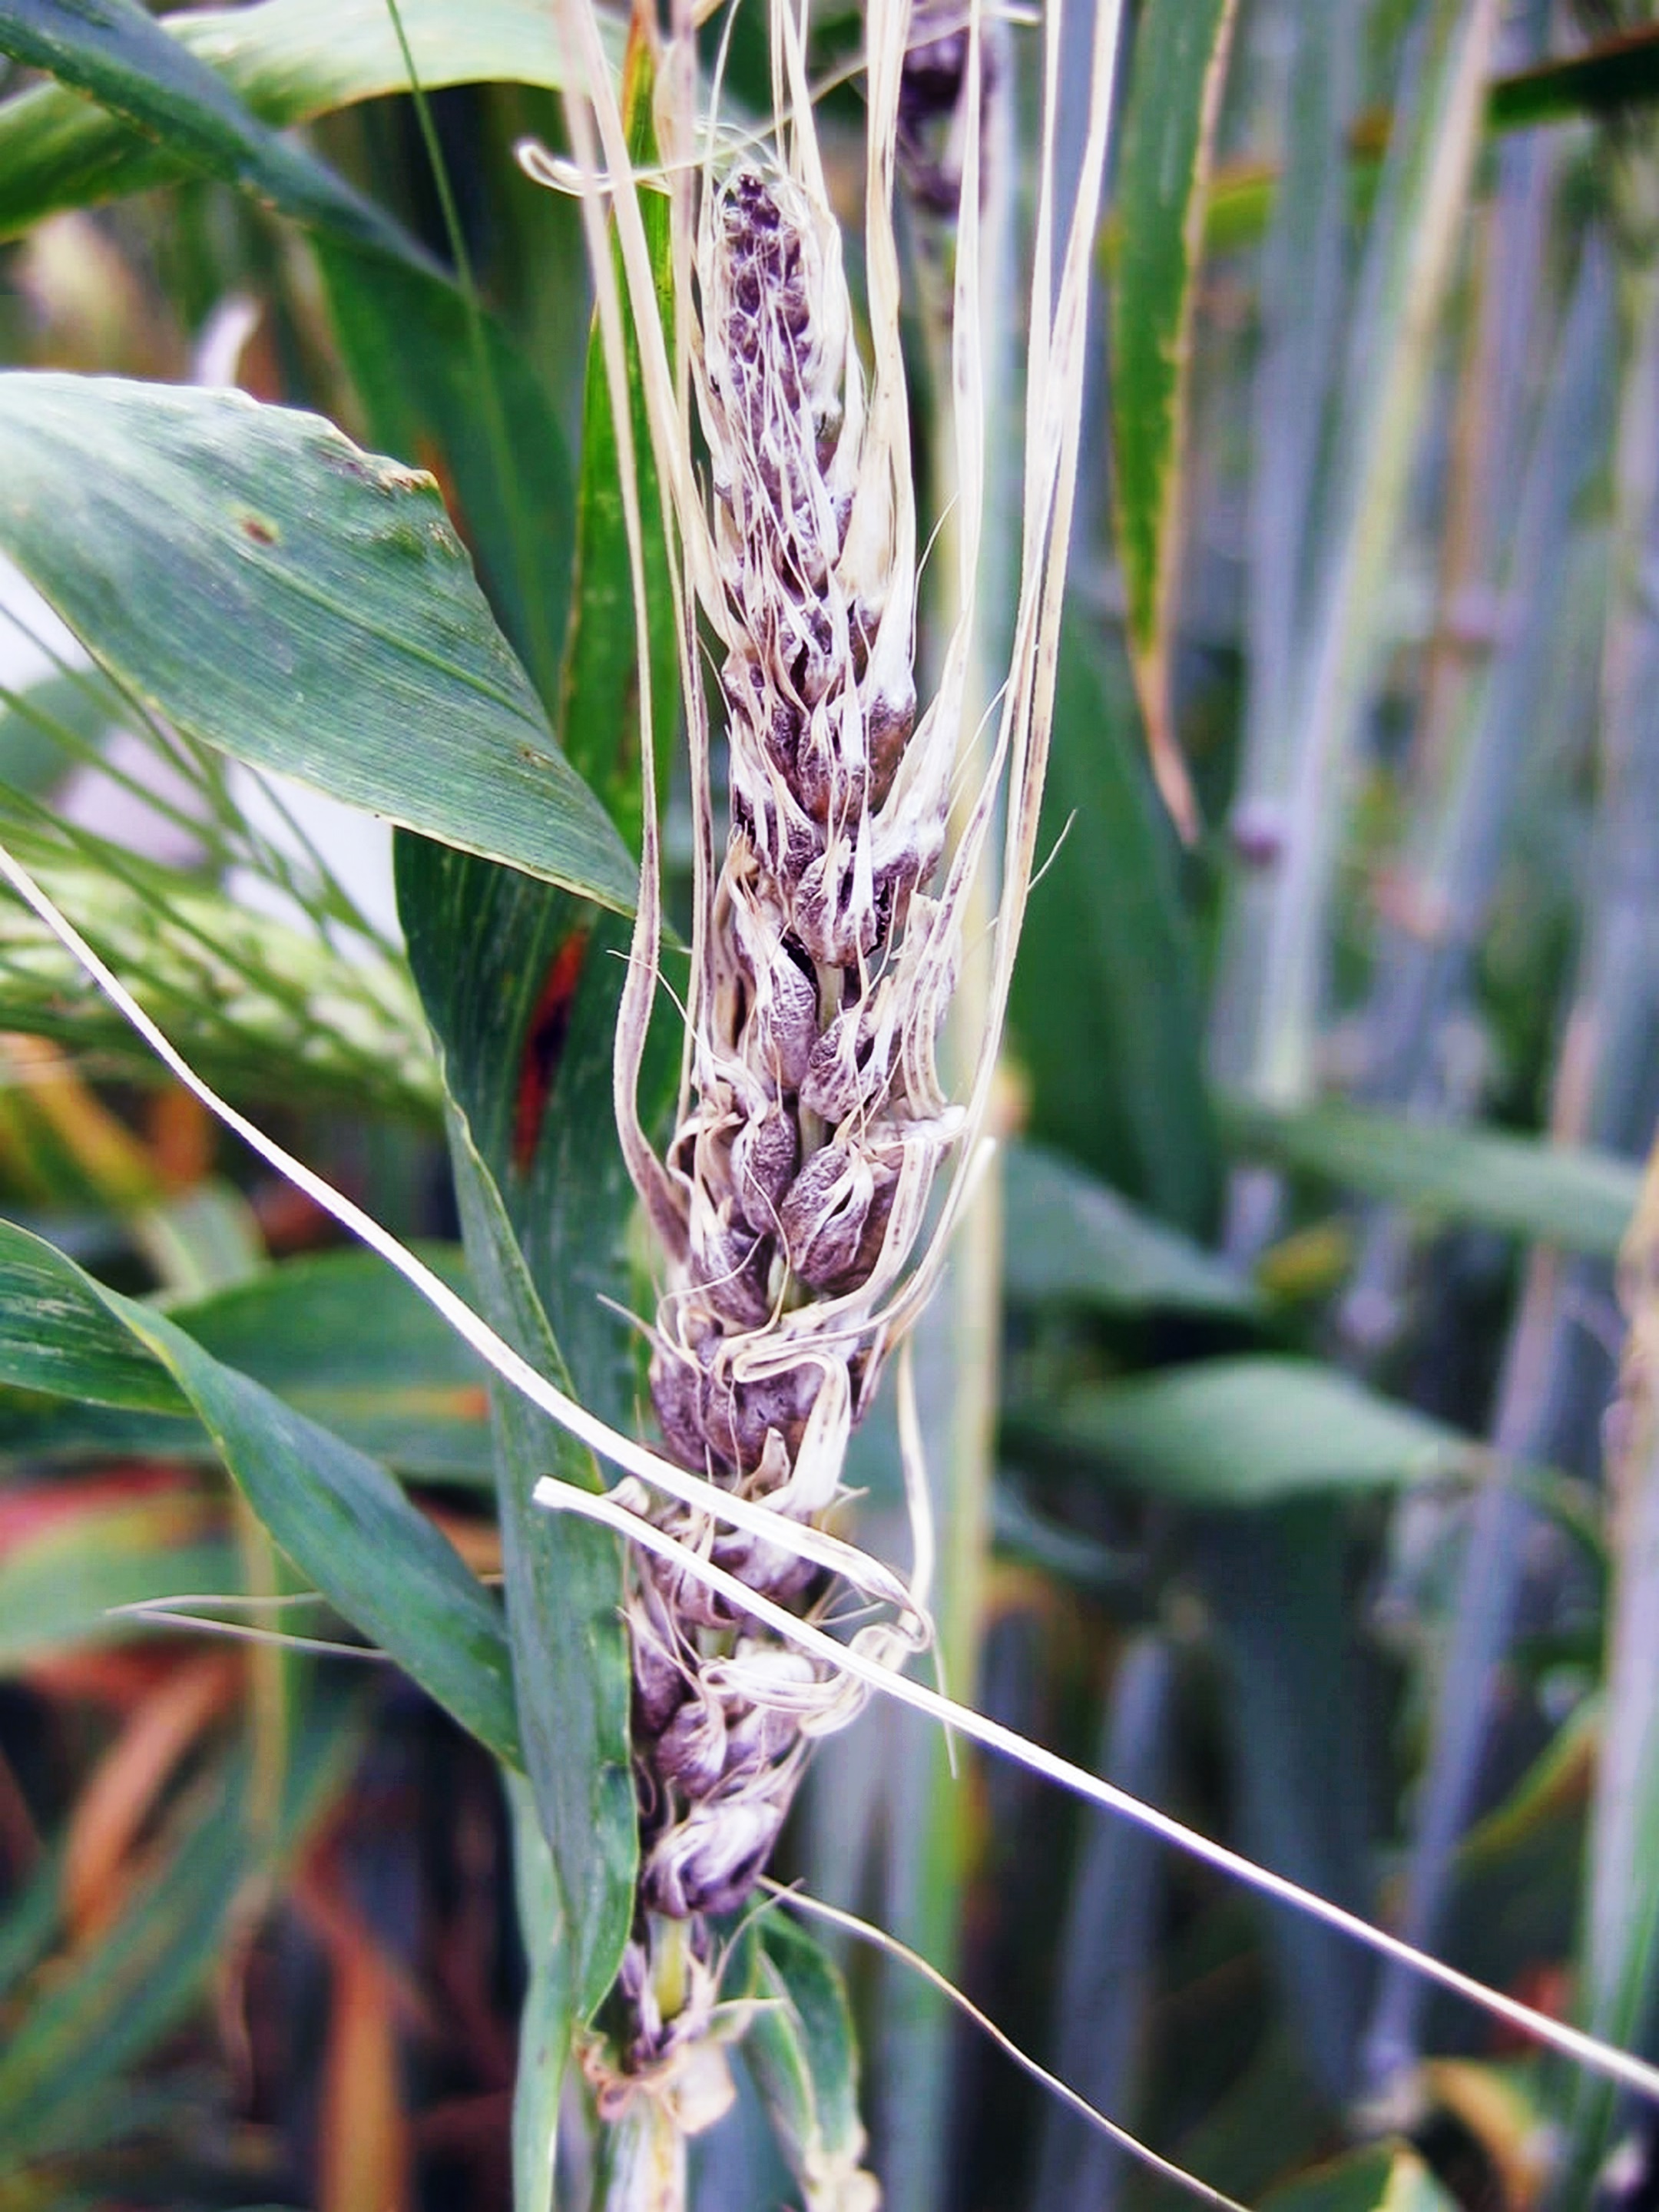Wheat Loose Smut: (448, 155, 986, 1952)
